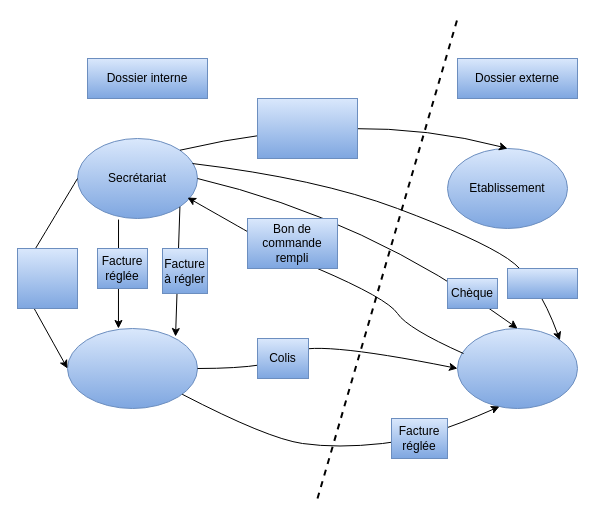
The diagram is 595 pixels wide and 517 high, and some of its shapes have lost their labels. The shapes that lost their labels are listed below. From the top down, each one's box as (x1, y1, x2, y2) in pixels, then its label:
(256, 98, 358, 158): Catalogue + bon de commande
(16, 248, 78, 308): Bon de commande
(506, 268, 578, 298): Facture <<réglée>>
(66, 328, 198, 408): Service Expédition
(456, 328, 578, 408): Professeur
